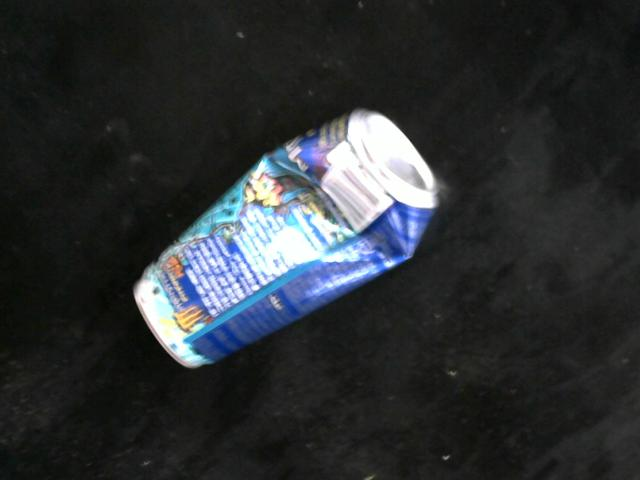can: (132, 106, 443, 370)
